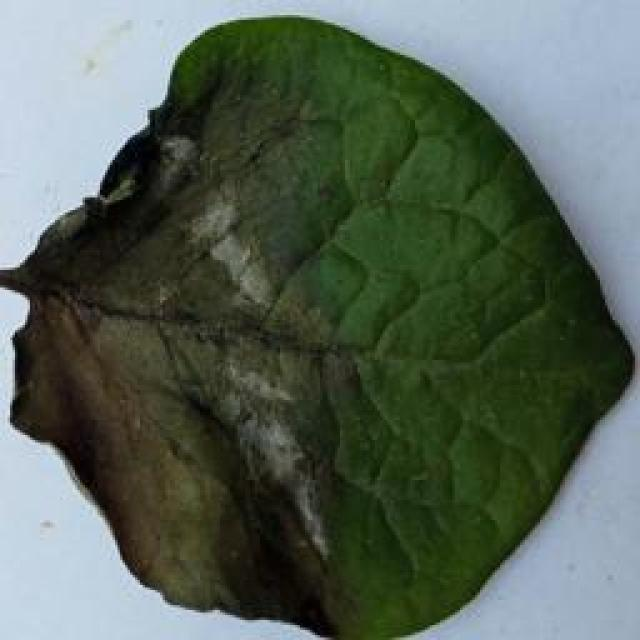Potato_Late_Blight: (5, 7, 632, 631), (480, 2, 640, 168)
